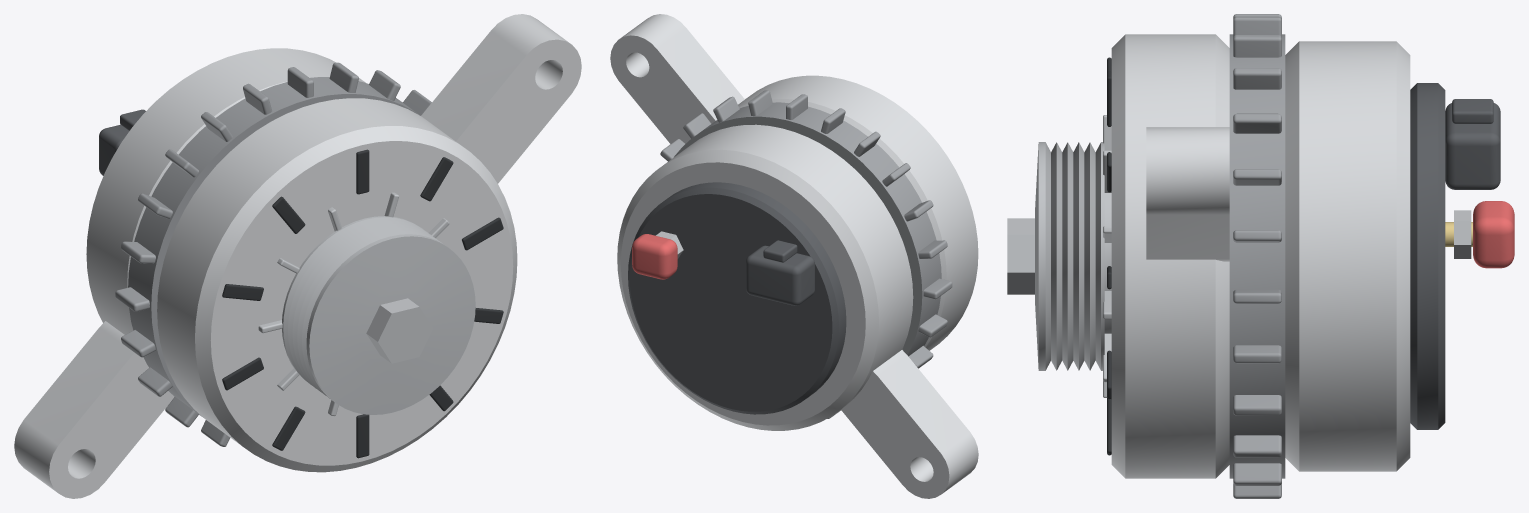
File: alternator.glb
3 views of the same model, side by side, from view 1: azimuth 30°, elevation 25°; view 2: azimuth 150°, elevation 25°; view 3: azimuth 270°, elevation 25° (orthographic). The views are drawn at different scales.
Visible parts, largest first — view 1: front_housing, rear_housing, pulley, stator, cooling_fan, connector; view 2: rear_housing, rear_cover, front_housing, stator, connector, b_terminal; view 3: rear_housing, front_housing, stator, pulley, rear_cover, connector, b_terminal, cooling_fan.
Part boxes in pixels (bbox=[...]): front_housing: bbox=[157, 14, 581, 472]; rear_housing: bbox=[14, 48, 365, 498]; pulley: bbox=[282, 216, 475, 414]; stator: bbox=[115, 62, 431, 446]; cooling_fan: bbox=[258, 192, 449, 416]; connector: bbox=[99, 109, 145, 175]; rear_housing: bbox=[617, 124, 978, 498]; rear_cover: bbox=[628, 182, 846, 414]; front_housing: bbox=[610, 14, 978, 350]; stator: bbox=[660, 90, 952, 418]; connector: bbox=[746, 240, 814, 305]; b_terminal: bbox=[632, 231, 683, 279]; rear_housing: bbox=[1285, 41, 1410, 471]; front_housing: bbox=[1107, 34, 1229, 478]; stator: bbox=[1229, 14, 1285, 498]; pulley: bbox=[1007, 142, 1104, 370]; rear_cover: bbox=[1410, 83, 1445, 429]; connector: bbox=[1445, 99, 1500, 189]; b_terminal: bbox=[1445, 201, 1514, 268]; cooling_fan: bbox=[1103, 115, 1111, 397].
Bounding box in the file's own units: 186 × 154 × 146.
